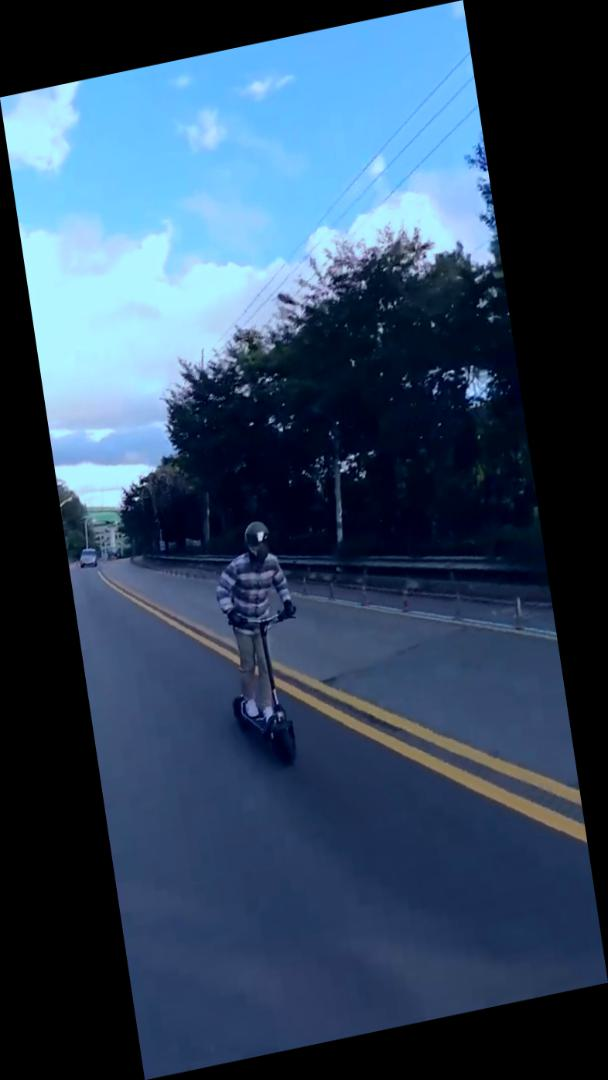helmet: (204, 511, 323, 781)
